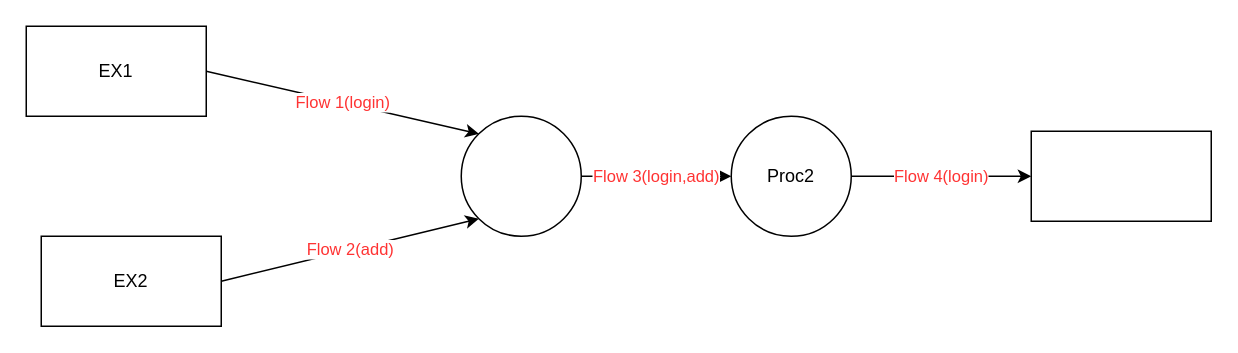
Some shapes in this 1238 by 353 pixel diagram are drawn without their labels. The centre of each missing label's shape, as x and y in pixels:
"EX3" goes at (1120,175).
"Proc1" goes at (520,175).
